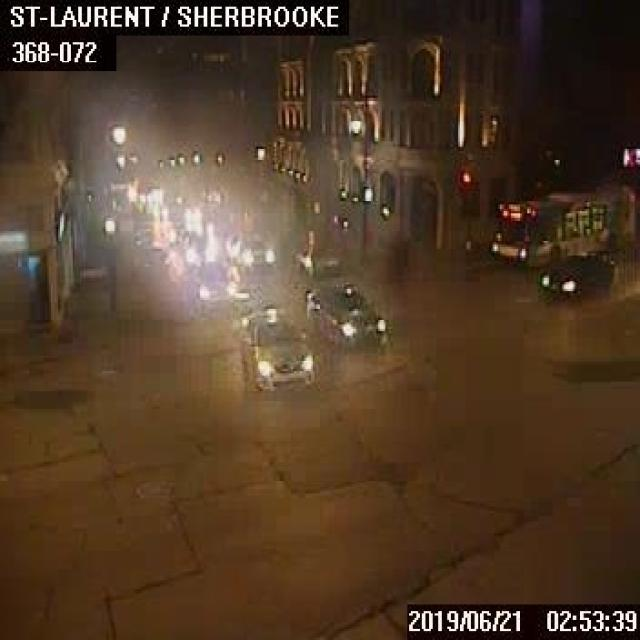bus: (489, 182, 633, 264)
vehicle: (240, 306, 314, 389), (304, 280, 384, 346), (184, 261, 249, 315), (536, 252, 608, 298), (227, 229, 273, 270), (293, 245, 337, 277)
